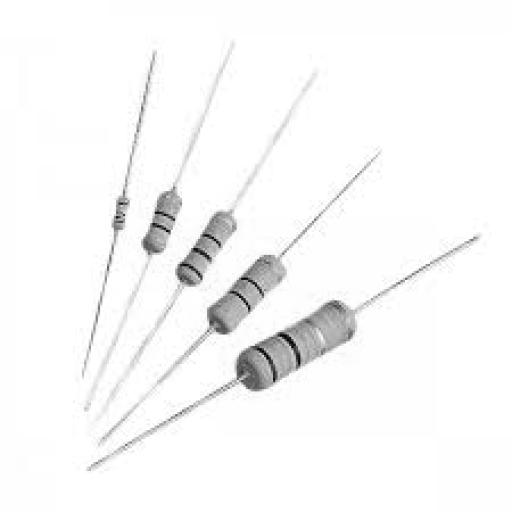RESISTOR: (196, 278, 397, 432), (176, 216, 328, 348), (55, 182, 151, 281), (121, 180, 215, 278), (156, 206, 254, 296)
